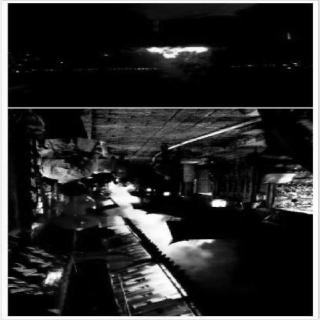Fire: (88, 182, 216, 316), (141, 44, 214, 60)
